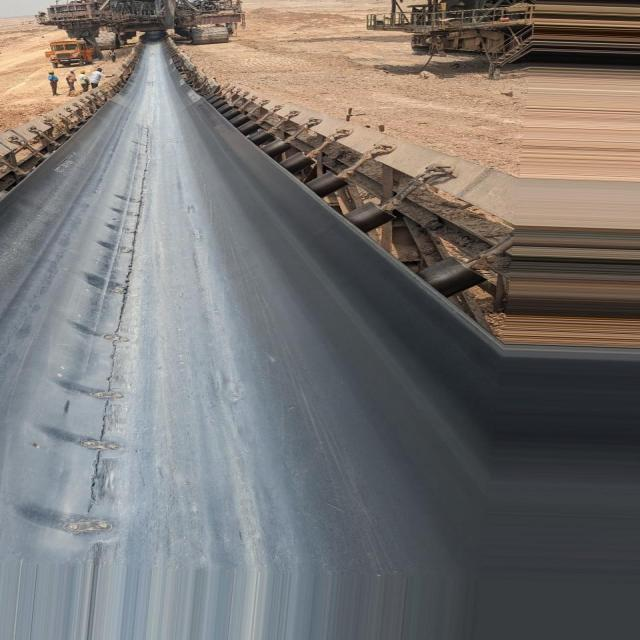Human: (48, 68, 113, 98)
Roller: (224, 109, 485, 298)
patch work: (59, 128, 165, 539)
